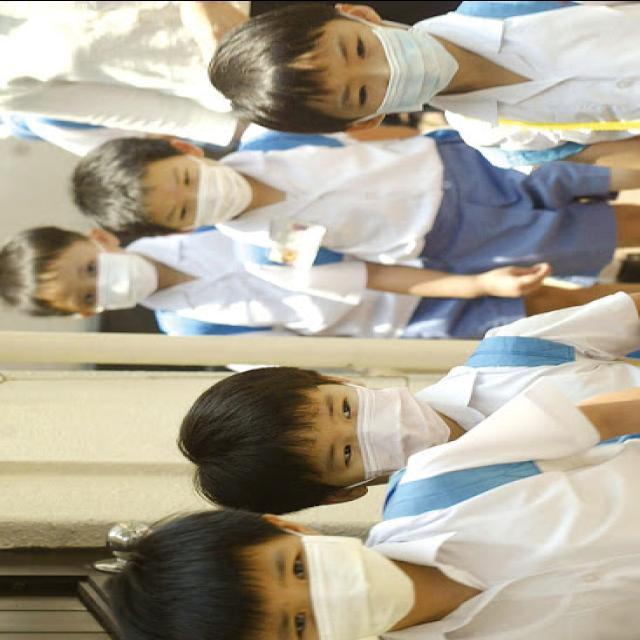with_mask: (265, 529, 420, 639), (312, 382, 452, 483), (332, 18, 461, 114), (158, 154, 254, 228), (66, 244, 160, 310)
